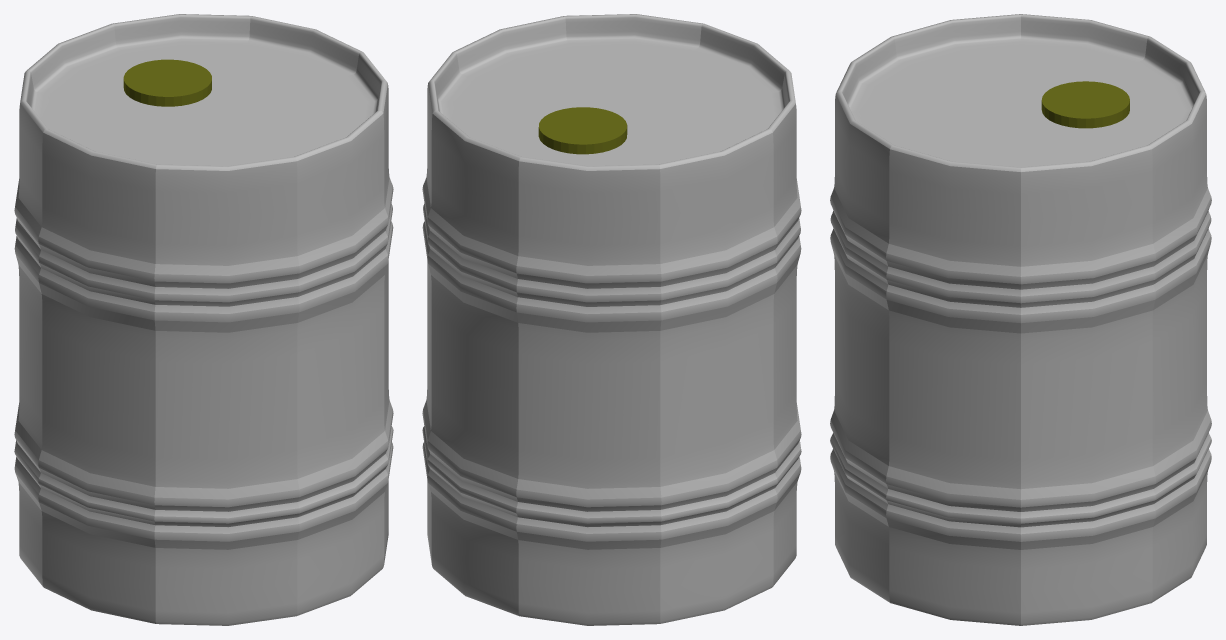
The model's file is green_barrel.fbx.
3 renders of one model, left to right at view 1: azimuth 30°, elevation 25°; view 2: azimuth 150°, elevation 25°; view 3: azimuth 270°, elevation 25°, orthographic.
Visible parts, largest first — view 1: green_barrel; view 2: green_barrel; view 3: green_barrel.
Part boxes in pixels (<box>): green_barrel: <box>14,14,393,625</box>; green_barrel: <box>422,14,801,625</box>; green_barrel: <box>830,14,1211,625</box>.
Size of the model in its own units: 73.68 by 97.4 by 73.68.
